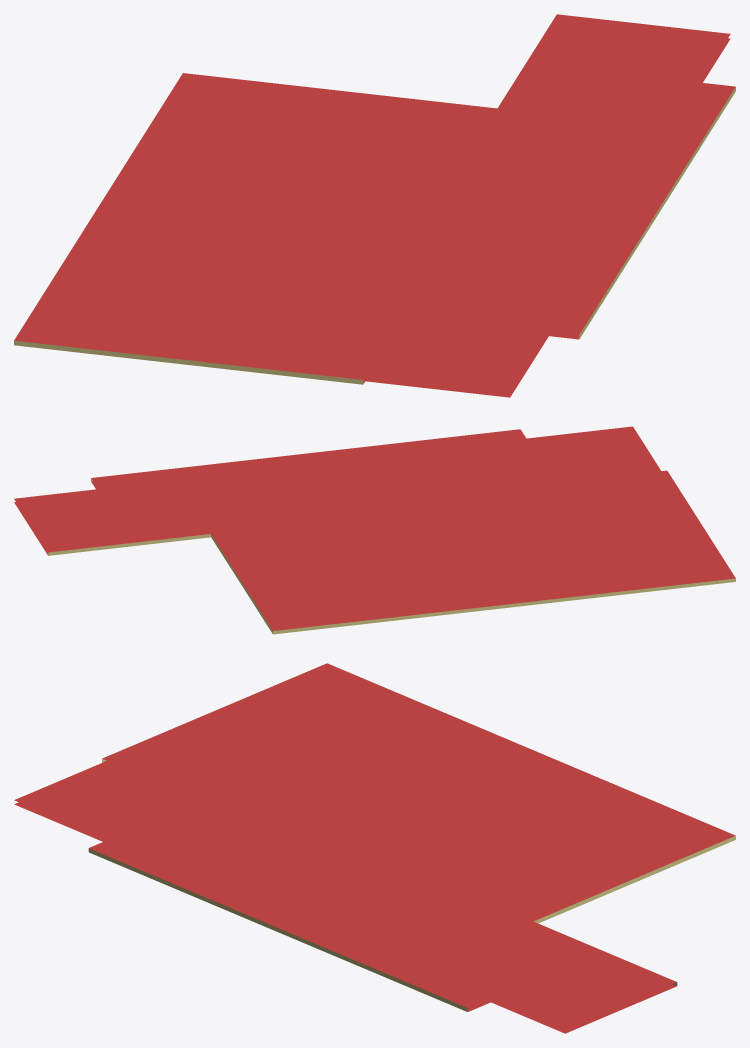
The picture shows the model from 3 angles, top to bottom: view 1: azimuth 30°, elevation 25°; view 2: azimuth 150°, elevation 25°; view 3: azimuth 270°, elevation 25°; orthographic projection. The views are drawn at different scales.
Visible parts, largest first — view 1: group_3, group_4, group_5; view 2: group_3, group_4; view 3: group_3, group_4, group_5.
Boxes of the visible parts, x1,y1,x2,y2 form: group_3: (14,14,735,392); group_4: (14,87,735,384); group_5: (363,38,730,397); group_3: (14,426,735,630); group_4: (48,478,735,634); group_3: (14,663,735,1029); group_4: (88,758,735,1011); group_5: (14,761,676,1033).
Bounding box in the file's own units: 18.89 × 15.73 × 0.1.
